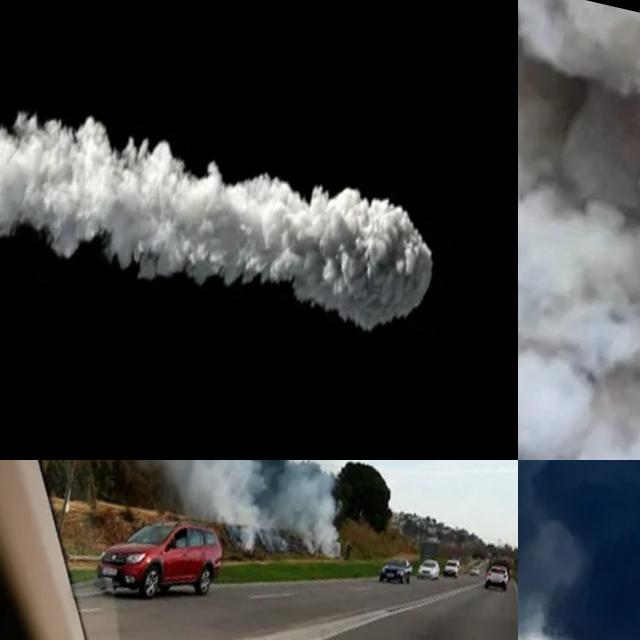smoke: (0, 77, 456, 361), (518, 0, 640, 460), (518, 460, 640, 640), (116, 460, 301, 558), (264, 460, 368, 563)
